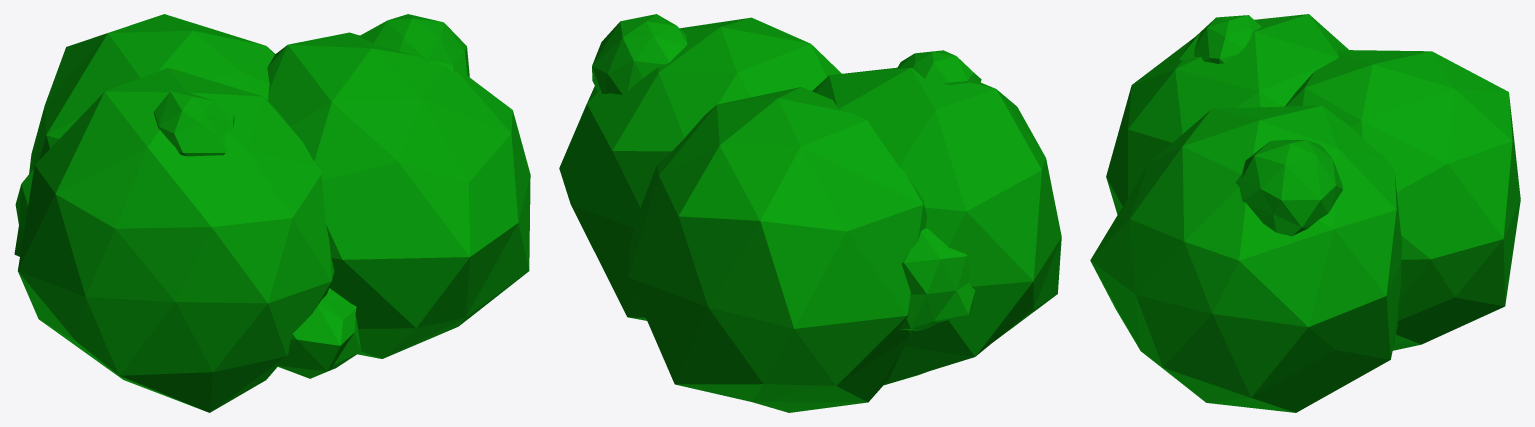
Rendered from Kust2.fbx.
The picture shows the model from 3 angles, left to right: view 1: azimuth 30°, elevation 25°; view 2: azimuth 150°, elevation 25°; view 3: azimuth 270°, elevation 25°; orthographic projection. The views are drawn at different scales.
Parts seen in each view (by area): view 1: Икосфера.001; view 2: Икосфера.001; view 3: Икосфера.001.
Boxes of the visible parts, box(x1,y1,x2,y2) form: Икосфера.001: box(14, 14, 530, 412); Икосфера.001: box(559, 14, 1061, 412); Икосфера.001: box(1090, 14, 1520, 412).
Bounding box in the file's own units: 326 × 216 × 277.
